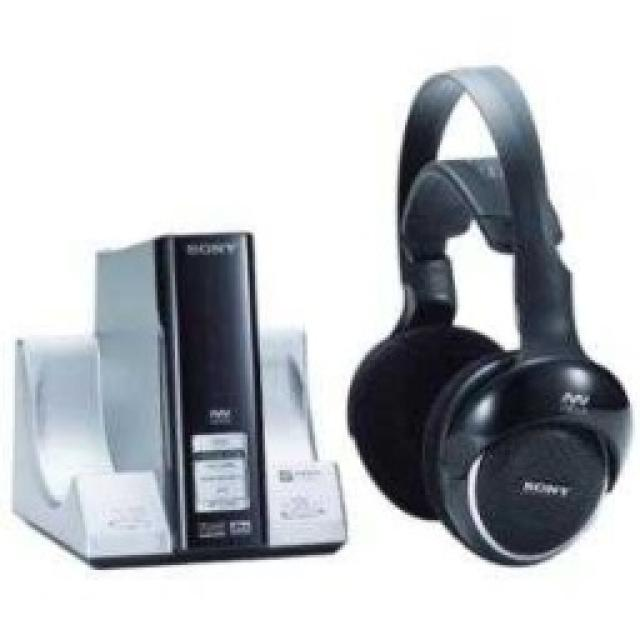headphones: (345, 63, 633, 565)
